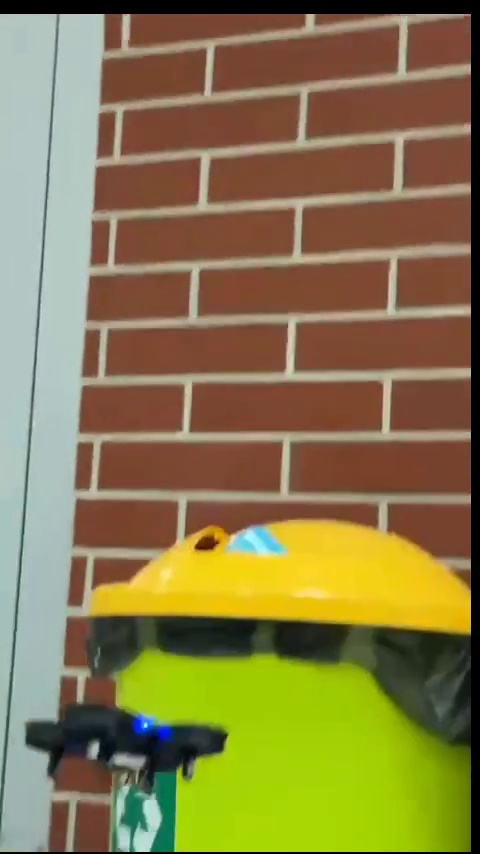drone: (17, 703, 226, 788)
